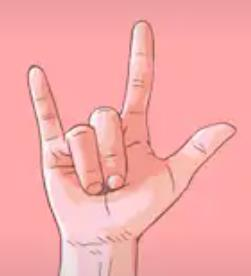back: (20, 16, 240, 243)
